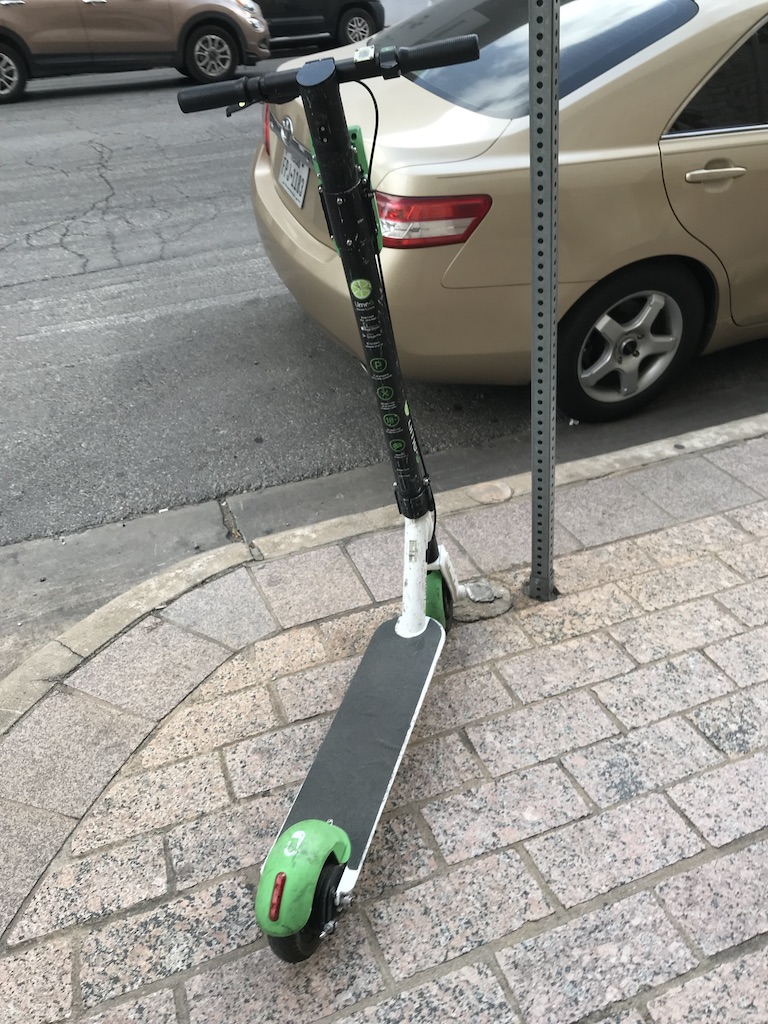scooter: (179, 32, 480, 963)
